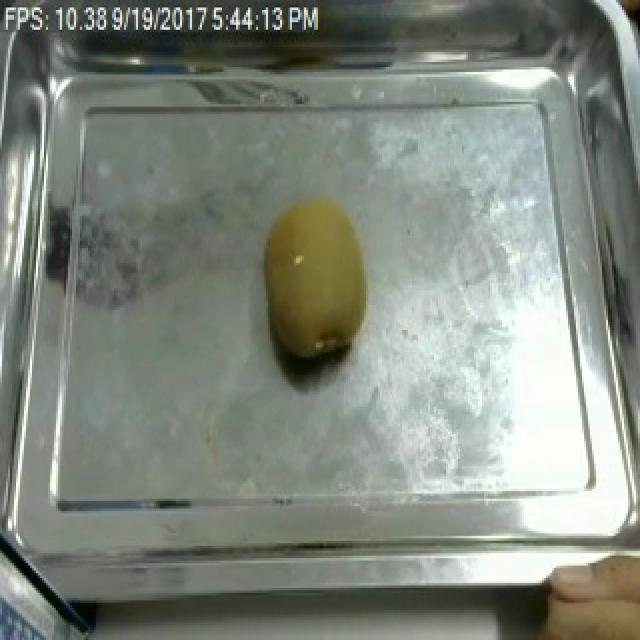Fruit: (254, 183, 382, 370)
